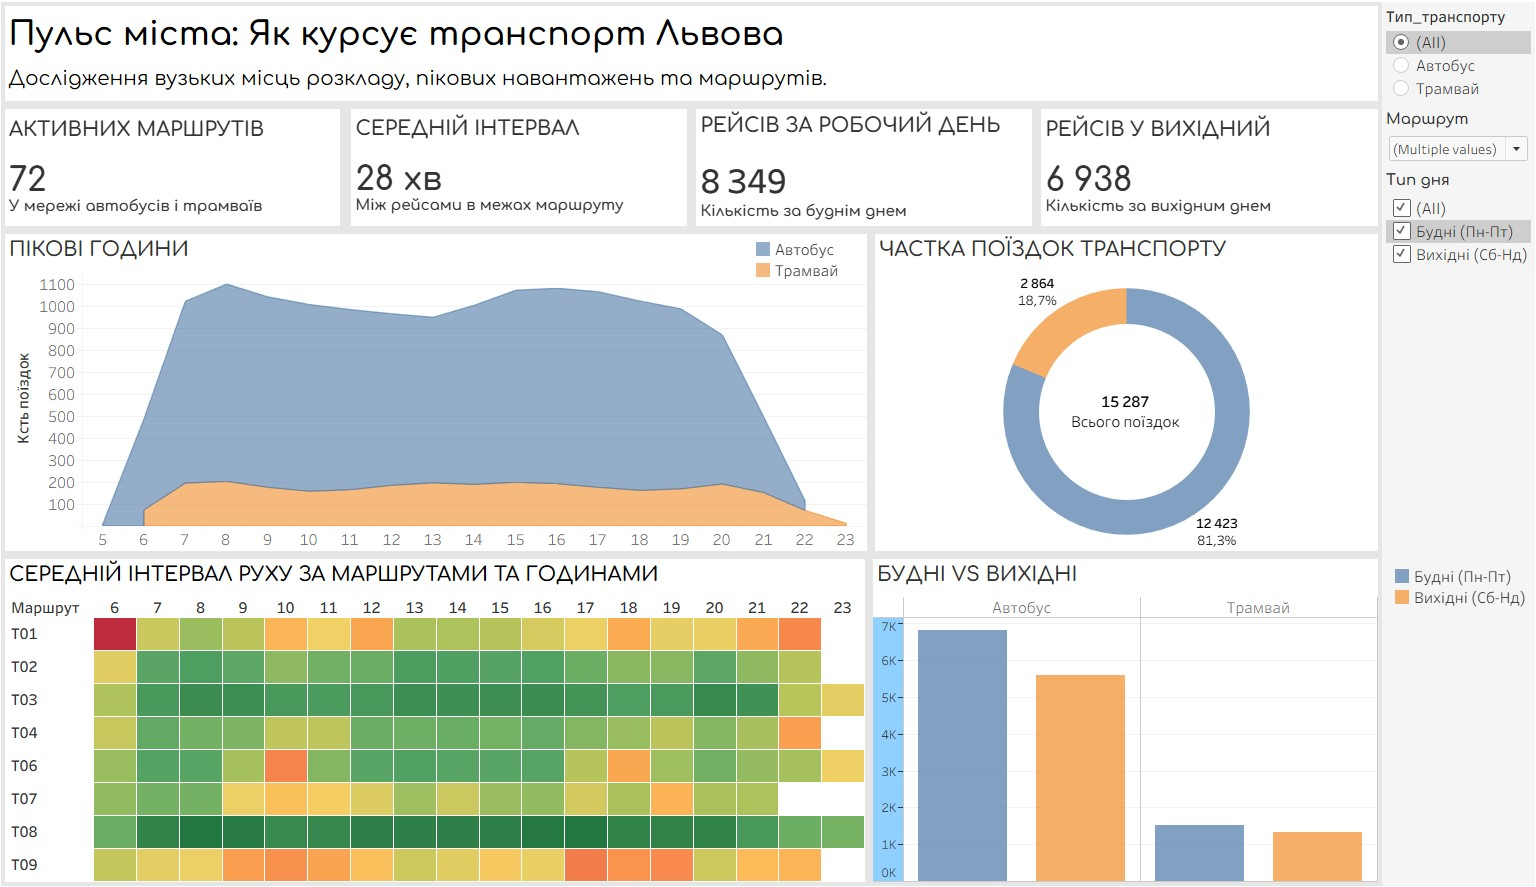

The dashboard page shown, as its layout file describes it:
{"tool":"tableau","page":{"name":"Громадський транспорт Львова","canvas":[1550,900],"ordinal":0},"visuals":[{"type":"title","box":[8,8,1381,103]},{"type":"filter","title":"Хітмап інтервалів","param":"[federated.1rz6pqd0eiz40c152y8hb1991bgv].[none:transport_type:nk]","box":[1389,8,153,105]},{"type":"worksheet","title":"Кількість активних маршрутів","mark":"Automatic","box":[8,111,346,125]},{"type":"worksheet","title":"Середній інтервал по місту","mark":"Automatic","box":[354,111,345,125]},{"type":"worksheet","title":"Кількість рейсів за робочий день","mark":"Automatic","box":[699,111,345,125]},{"type":"worksheet","title":"Кількість рейсів у вихідний","mark":"Automatic","box":[1044,111,345,125]},{"type":"filter","title":"Хітмап інтервалів","param":"[federated.1rz6pqd0eiz40c152y8hb1991bgv].[none:route_number:nk]","box":[1389,113,153,61]},{"type":"filter","title":"Хітмап інтервалів","param":"[federated.1rz6pqd0eiz40c152y8hb1991bgv].[none:day_type:nk]","box":[1389,174,153,105]},{"type":"worksheet","title":"Пікові години","mark":"Area","rows":["trips_count"],"cols":["departure_hour"],"box":[8,236,870,325]},{"type":"worksheet","title":"Частка поїздок транспорту","mark":"Pie","cols":["Calculation_0349683461816325","Calculation_0349683461816325"],"box":[878,236,511,325]},{"type":"legend","title":"Пікові години","param":"[federated.1rz6pqd0eiz40c152y8hb1991bgv].[none:transport_type:nk]","box":[760,245,112,49]},{"type":"worksheet","title":"Хітмап інтервалів","mark":"Square","rows":["route_number"],"cols":["departure_hour"],"box":[8,561,867.9,331]},{"type":"worksheet","title":"Будні vs Вихідні","mark":"Bar","rows":["trips_count"],"cols":["transport_type","day_type"],"box":[875.9,561,513.1,331]},{"type":"legend","title":"Будні vs Вихідні","param":"[federated.1rz6pqd0eiz40c152y8hb1991bgv].[none:day_type:nk]","box":[1399,572,140,59]}]}

Visuals, with their boxes in screenshot pixels (x1, y1, x2, y2), scaled from the page's 1550x900 canvas onto the 1536x887 screenshot:
title: bbox(8, 8, 1376, 109)
"Хітмап інтервалів" filter: bbox(1376, 8, 1528, 111)
"Кількість активних маршрутів" worksheet: bbox(8, 109, 351, 233)
"Середній інтервал по місту" worksheet: bbox(351, 109, 693, 233)
"Кількість рейсів за робочий день" worksheet: bbox(693, 109, 1035, 233)
"Кількість рейсів у вихідний" worksheet: bbox(1035, 109, 1376, 233)
"Хітмап інтервалів" filter: bbox(1376, 111, 1528, 171)
"Хітмап інтервалів" filter: bbox(1376, 171, 1528, 275)
"Пікові години" worksheet (Area marks): bbox(8, 233, 870, 553)
"Частка поїздок транспорту" worksheet (Pie marks): bbox(870, 233, 1376, 553)
"Пікові години" legend: bbox(753, 241, 864, 290)
"Хітмап інтервалів" worksheet (Square marks): bbox(8, 553, 868, 879)
"Будні vs Вихідні" worksheet (Bar marks): bbox(868, 553, 1376, 879)
"Будні vs Вихідні" legend: bbox(1386, 564, 1525, 622)
